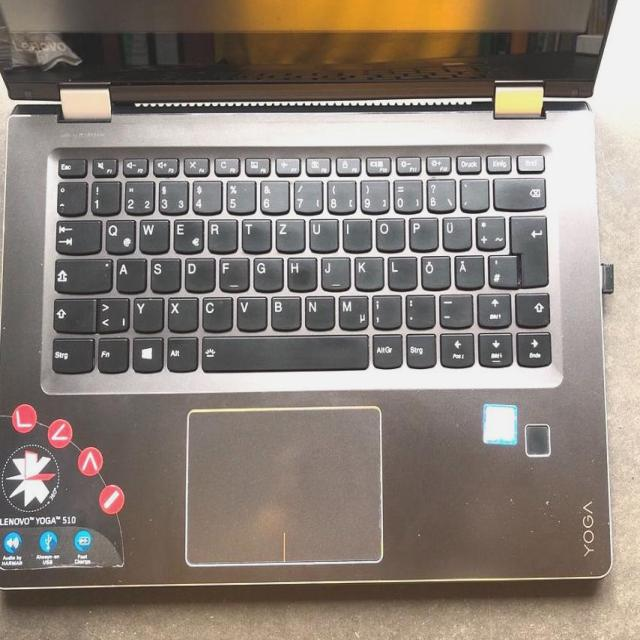0: (390, 176, 420, 211)
1: (89, 178, 119, 213)
2: (121, 177, 153, 212)
3: (155, 177, 187, 212)
4: (190, 177, 220, 211)
5: (224, 177, 254, 211)
6: (257, 177, 287, 211)
7: (291, 177, 321, 212)
8: (324, 177, 354, 212)
9: (358, 176, 387, 211)
a: (114, 255, 144, 290)
accent: (457, 175, 487, 209)
ae: (453, 252, 483, 287)
alt-left: (164, 333, 196, 370)
altgr-right: (369, 331, 401, 367)
b: (268, 292, 300, 328)
c: (199, 293, 231, 329)
caret: (55, 178, 84, 213)
comma: (369, 291, 401, 327)
d: (183, 254, 213, 290)
del: (491, 174, 545, 208)
e: (170, 216, 202, 251)
enter: (507, 212, 547, 286)
f: (216, 254, 248, 289)
g: (251, 254, 281, 290)
h: (285, 254, 315, 289)
hash: (486, 252, 516, 286)
i: (340, 215, 370, 250)
j: (318, 253, 348, 288)
k: (352, 253, 382, 288)
keyboard: (38, 141, 560, 388)
l: (385, 253, 415, 288)
less: (95, 294, 128, 331)
m: (336, 292, 366, 328)
minus: (436, 290, 472, 326)
n: (303, 292, 333, 328)
o: (373, 214, 403, 250)
oe: (418, 252, 448, 288)
p: (406, 213, 436, 249)
plus: (473, 212, 503, 248)
point: (403, 290, 433, 326)
q: (102, 216, 134, 252)
r: (205, 216, 237, 251)
s: (148, 254, 178, 290)
shift-left: (50, 295, 92, 330)
shift-lock: (51, 255, 111, 291)
shift-right: (514, 291, 550, 327)
space: (199, 331, 367, 369)
ss: (424, 176, 454, 210)
strg-left: (47, 334, 93, 372)
strg-right: (404, 331, 434, 367)
t: (239, 215, 269, 250)
tab: (53, 217, 99, 252)
u: (306, 215, 336, 250)
ue: (440, 213, 470, 249)
v: (234, 293, 264, 329)
w: (137, 216, 167, 251)
x: (165, 294, 197, 330)
y: (132, 295, 162, 331)
z: (273, 215, 303, 251)
